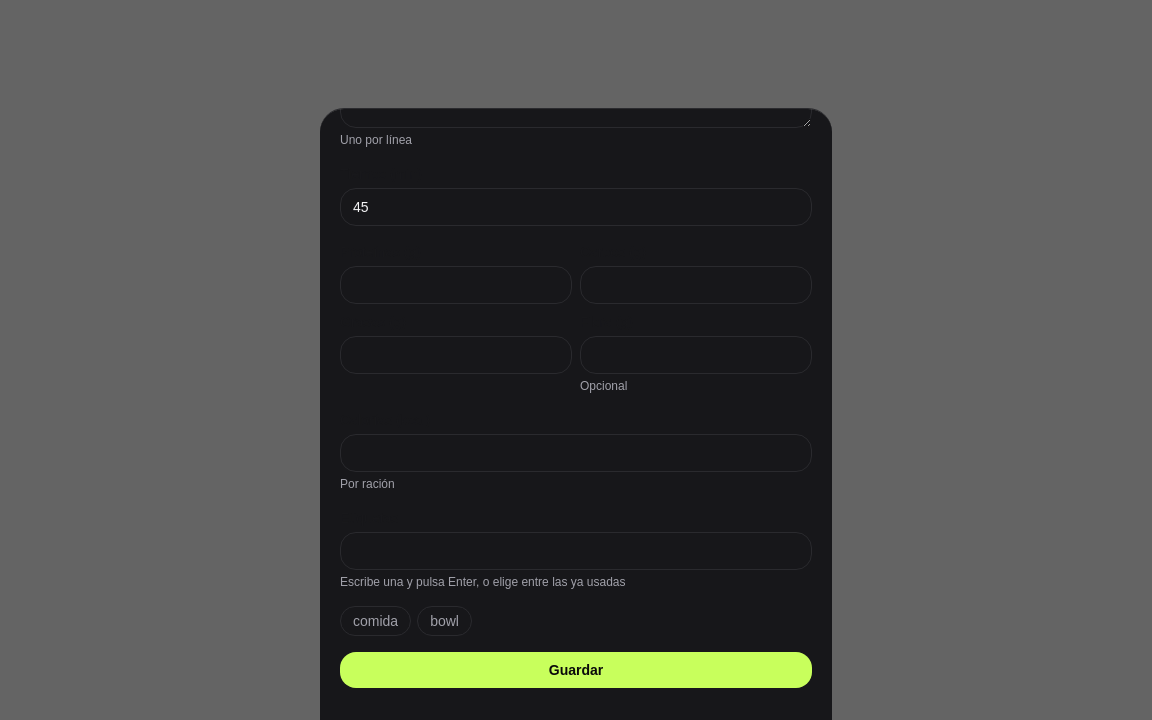
Test: R1/R2: el formulario se abre prerrellenado con lo importado › R2: los macros que la web no trae quedan vacíos y hay que rellenar las kcal para guardar
(page scrolled)
Check: the field labelled "Calorías (kcal)" is empty, box [340,434,812,472]
Check: the field labelled "Proteínas (g)" is empty, box [340,266,572,304]
Click the button "Guardar".
click(576, 670)  # box [340,652,812,688]
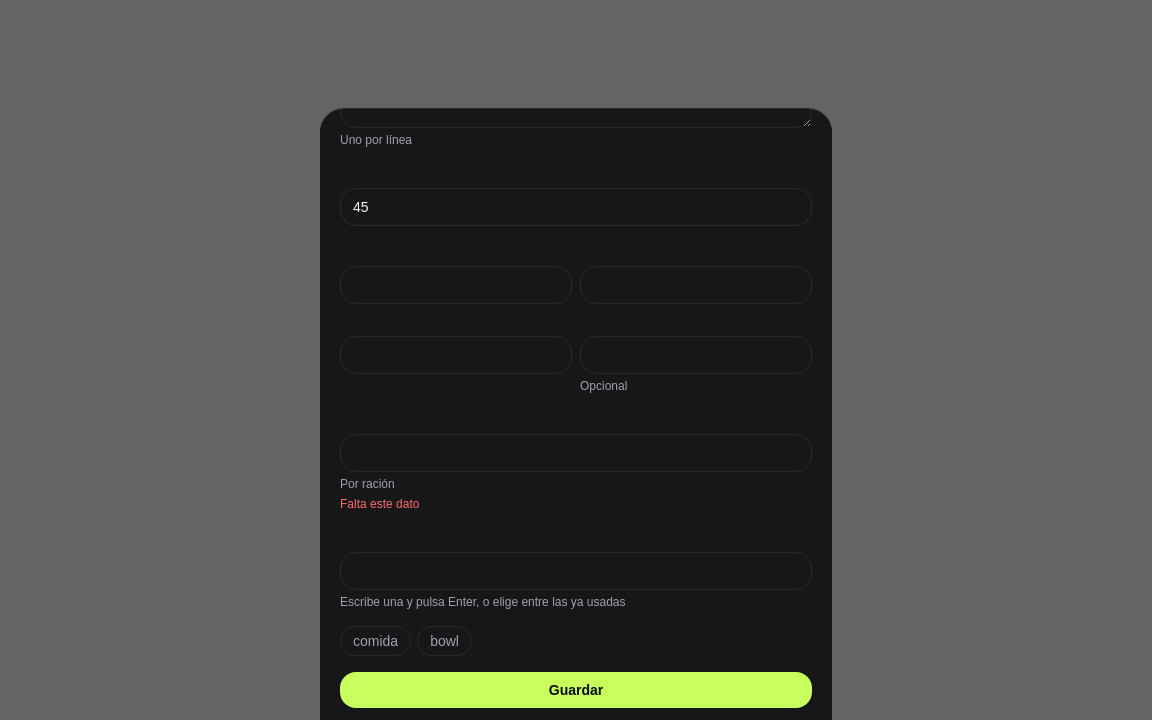
Check: the message "Falta este dato" is shown, box [340,497,419,511]
